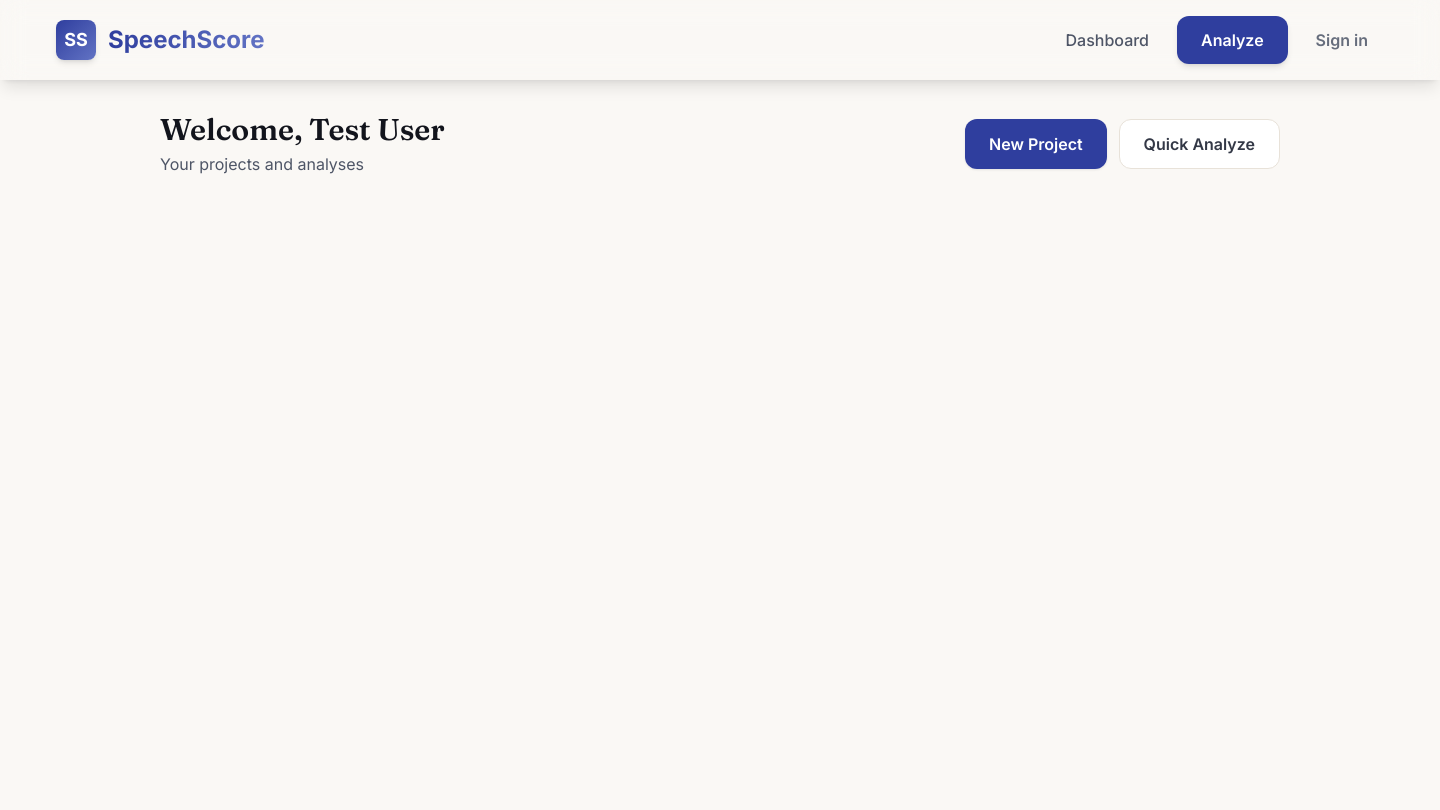
Test: Dashboard › opens the New Project modal as a dialog with labelled form fields
This screenshot has width=1440, height=810.
Expected: the heading "Welcome, Test User" is shown, [160,112,445,148]
What coordinates should you click on to do the following:
click the button "New Project"
I would click on:
 (1036, 144)
Its box is [965,119,1107,169].
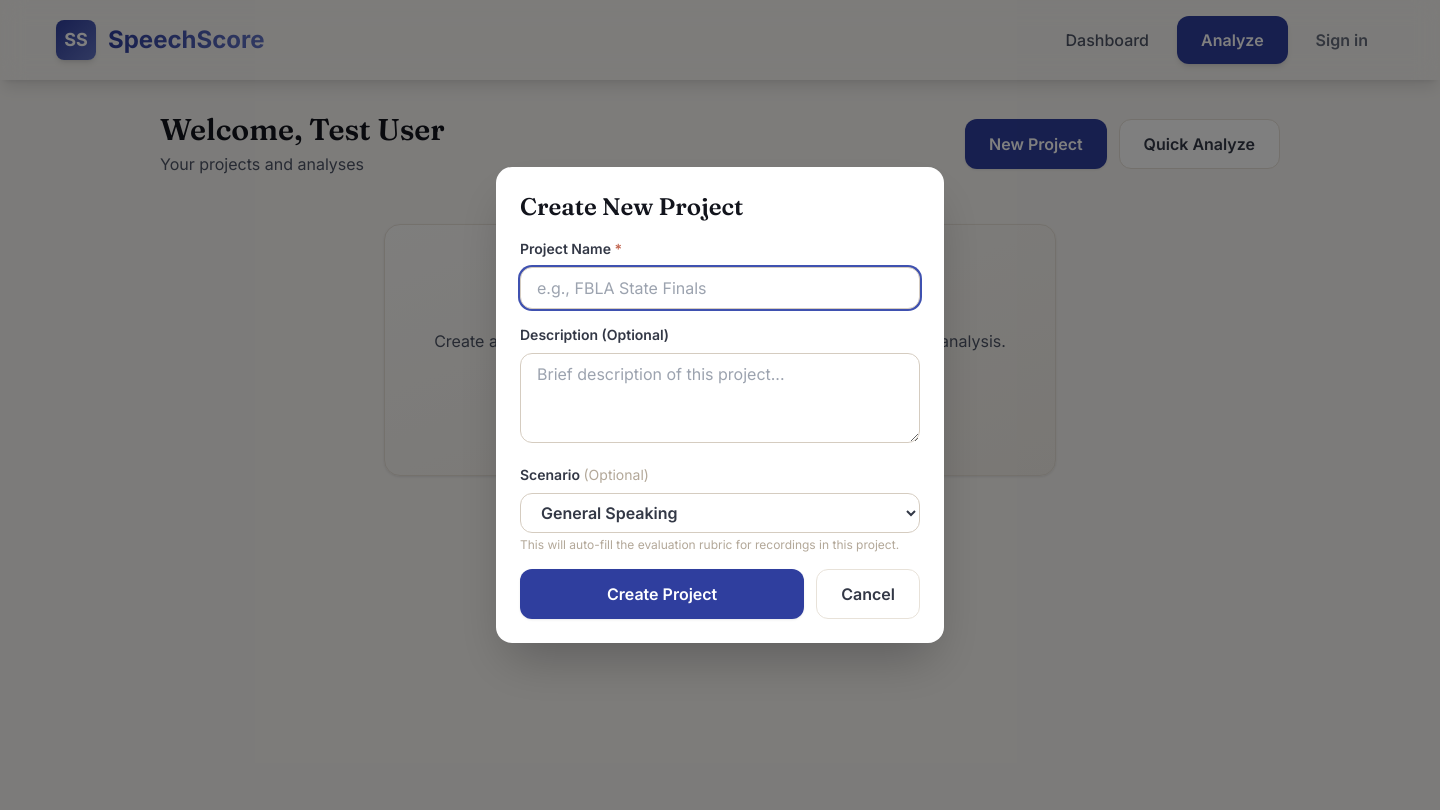
Result: the dialog is shown at [496,167,944,643]
Result: the field labelled "Project Name *" is shown at [520,267,920,309]
Result: the text box labelled "Description (Optional)" is shown at [520,353,920,443]
